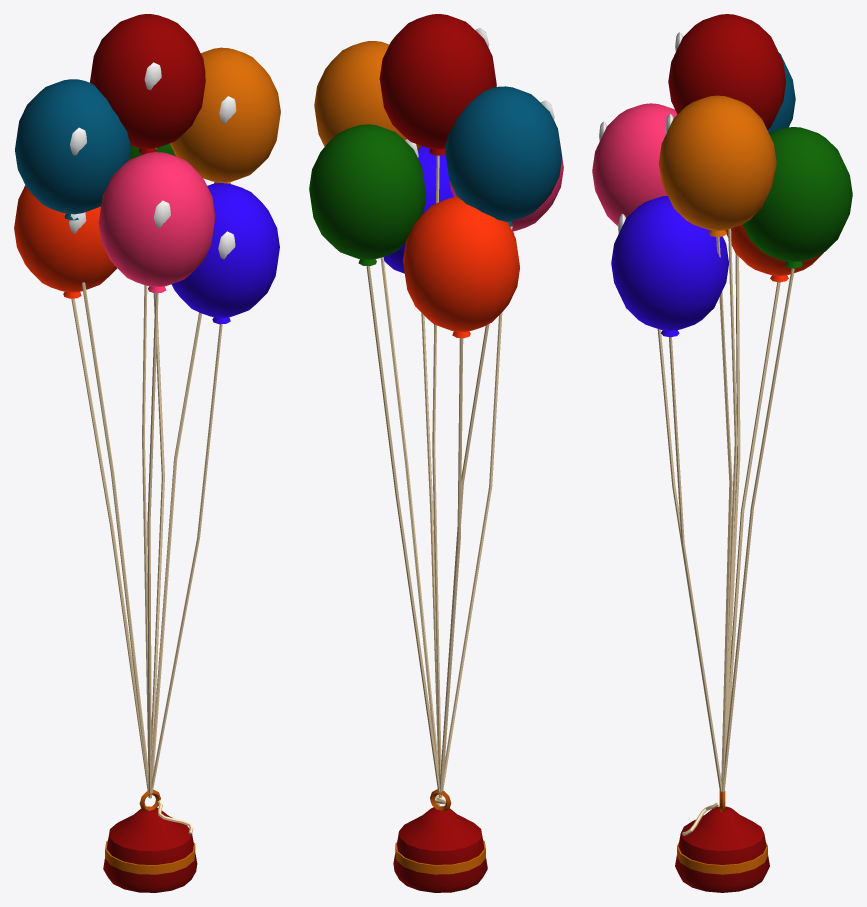
The model's file is BalloonBunch.obj.
3 views of the same model, side by side, from view 1: azimuth 30°, elevation 25°; view 2: azimuth 150°, elevation 25°; view 3: azimuth 270°, elevation 25° (orthographic).
Visible parts, largest first — view 1: BalloonBunch; view 2: BalloonBunch; view 3: BalloonBunch.
Boxes of the visible parts, bbox=[...] form: BalloonBunch: bbox=[14, 14, 280, 892]; BalloonBunch: bbox=[309, 14, 563, 892]; BalloonBunch: bbox=[592, 14, 852, 892].
Size of the model in its own units: 2.94 by 9.93 by 2.74.
